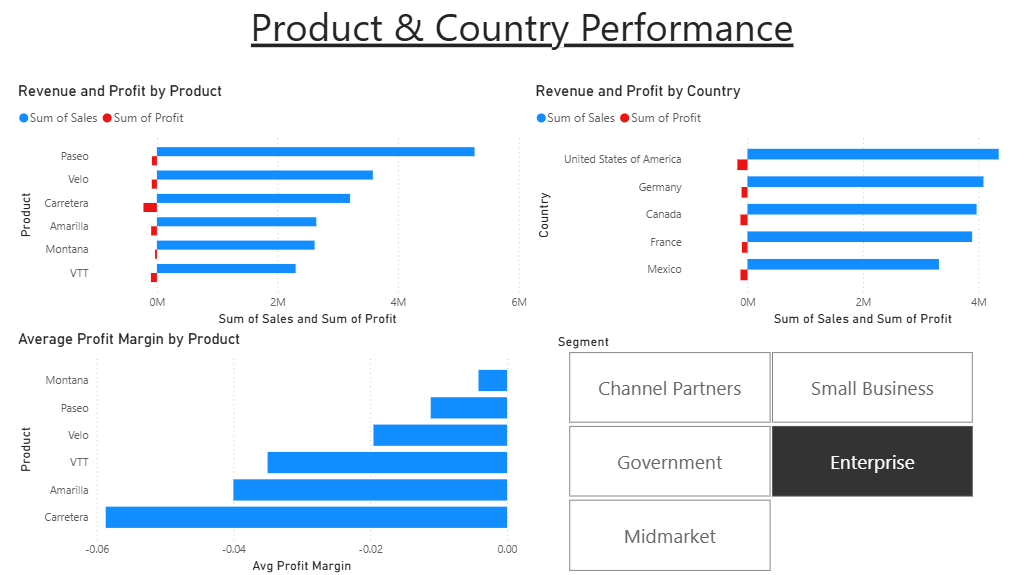

What the dashboard file says about the page in this screenshot:
{"tool":"powerbi","page":{"name":"Product & Country Performance","canvas":[1280,720],"ordinal":2},"visuals":[{"type":"clusteredBarChart","title":"Revenue and Profit by Product","fields":{"Category":["financial_cleaned.Product"],"Y":["Sum(financial_cleaned.Sales)","Sum(financial_cleaned.Profit)"]},"box":[65,142.5,575,275],"z":0},{"type":"clusteredBarChart","title":"Average Profit Margin by Product","fields":{"Category":["financial_cleaned.Product"],"Y":["financial_cleaned.Avg Profit Margin"]},"box":[65,417.5,565,275],"z":1000},{"type":"clusteredBarChart","title":"Revenue and Profit by Country","fields":{"Category":["financial_cleaned.Country"],"Y":["Sum(financial_cleaned.Sales)","Sum(financial_cleaned.Profit)"]},"box":[640,142.5,575,275],"z":2000},{"type":"slicer","fields":{"Values":["financial_cleaned.Segment"]},"box":[655.9,417.7,498.3,274.8],"z":3000},{"type":"textbox","box":[324,46,662,96],"z":4000}]}

Visuals, with their boxes in screenshot pixels (x1, y1, x2, y2), scaled from the page's 1280x720 canvas onto the 1031x575 screenshot:
"Revenue and Profit by Product" clusteredBarChart: BBox(52, 114, 516, 333)
"Average Profit Margin by Product" clusteredBarChart: BBox(52, 333, 507, 553)
"Revenue and Profit by Country" clusteredBarChart: BBox(516, 114, 979, 333)
slicer - financial_cleaned.Segment: BBox(528, 334, 930, 553)
textbox: BBox(261, 37, 794, 113)
